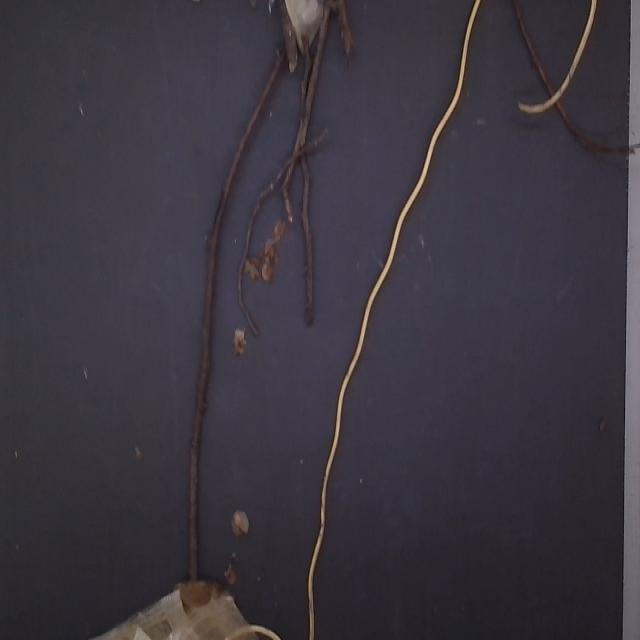plastic_films: (94, 589, 259, 640)
